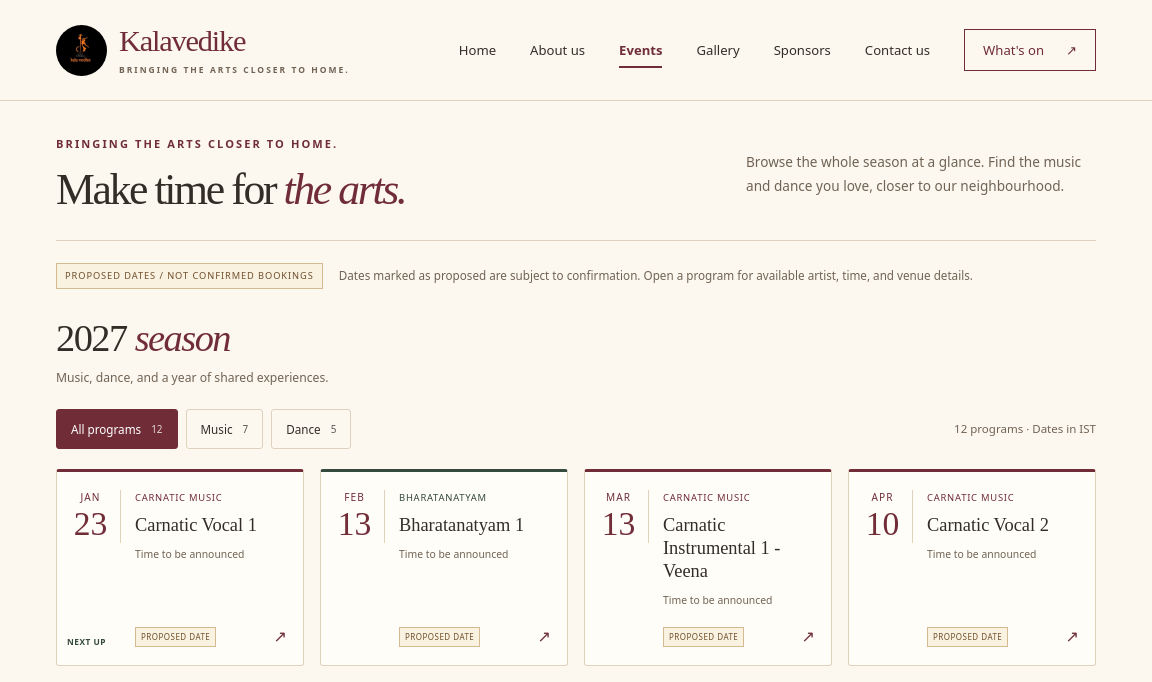
Test: Kalavedike pages › shows the whole season and restores focus and filters when returning from program details
Click the button "Music 7".
click(224, 429)  # box x1=186 y1=409 x2=263 y2=449
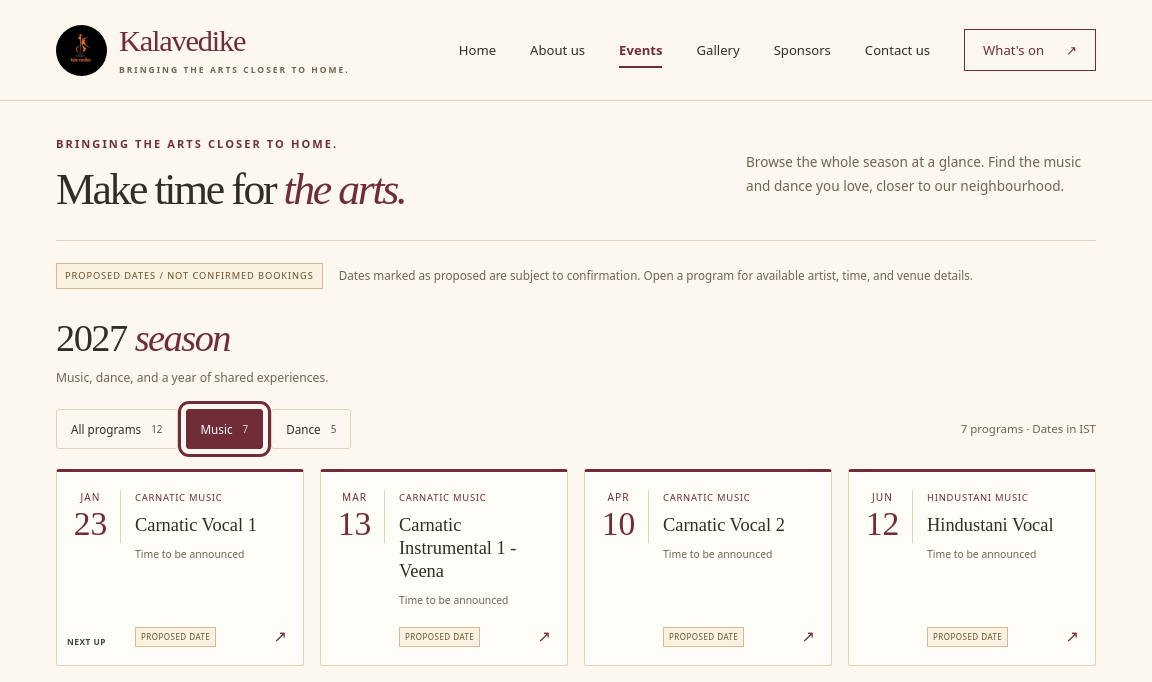
Click the button with aria-label "Carnatic Vocal 1,".
click(180, 567)  # box x1=56 y1=469 x2=304 y2=666
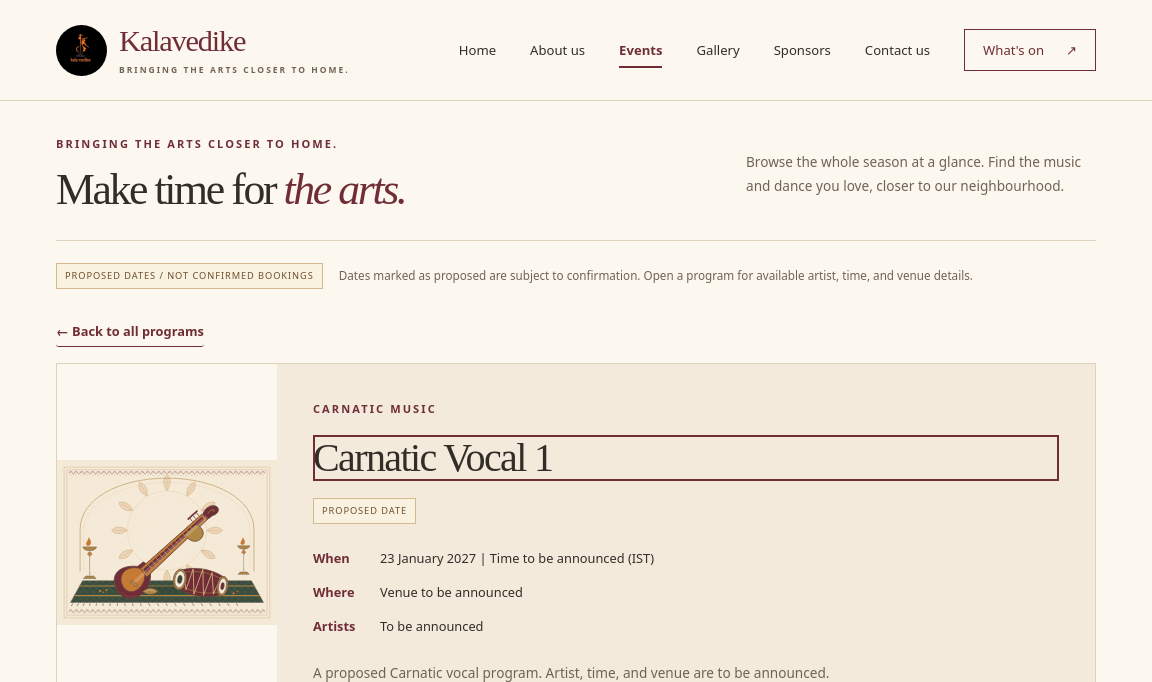
Click the button "← Back to all programs".
click(130, 332)  # box x1=56 y1=317 x2=204 y2=347
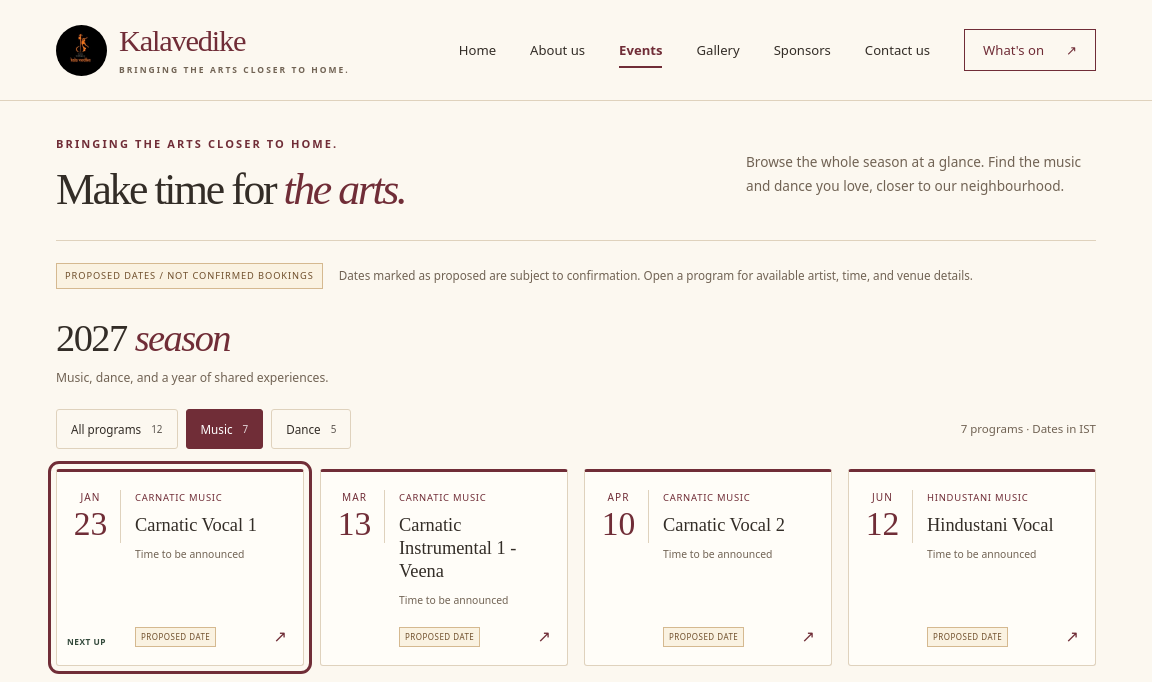
Now the button "Music 7" is pressed, box x1=186 y1=409 x2=263 y2=449
